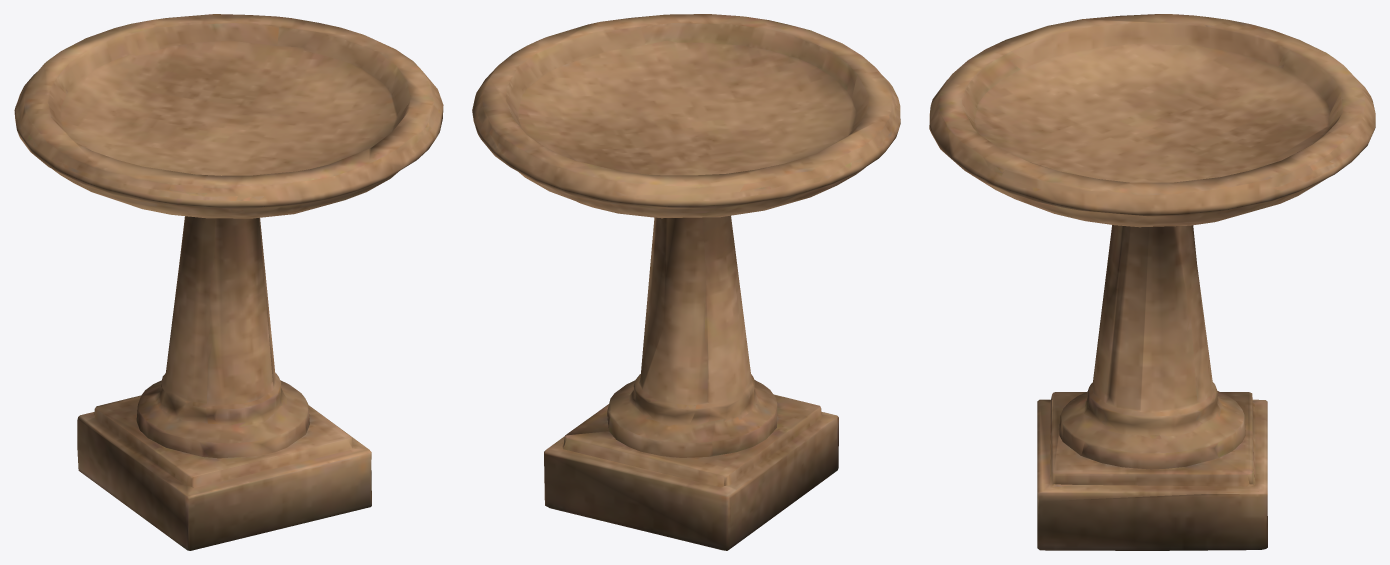
File: plain-sandstone-birdbath-v001.glb
The picture shows the model from 3 angles, left to right: view 1: azimuth 30°, elevation 25°; view 2: azimuth 150°, elevation 25°; view 3: azimuth 270°, elevation 25°; orthographic projection. The views are drawn at different scales.
Visible parts, largest first — view 1: plain-sandstone-birdbath; view 2: plain-sandstone-birdbath; view 3: plain-sandstone-birdbath.
Boxes of the visible parts, x1=… form: plain-sandstone-birdbath: x1=14, y1=14, x2=443, y2=550; plain-sandstone-birdbath: x1=472, y1=14, x2=900, y2=550; plain-sandstone-birdbath: x1=929, y1=14, x2=1375, y2=550.
Size of the model in its own units: 0.8481 by 0.8491 by 0.8469.
1 material, 1 textured.
